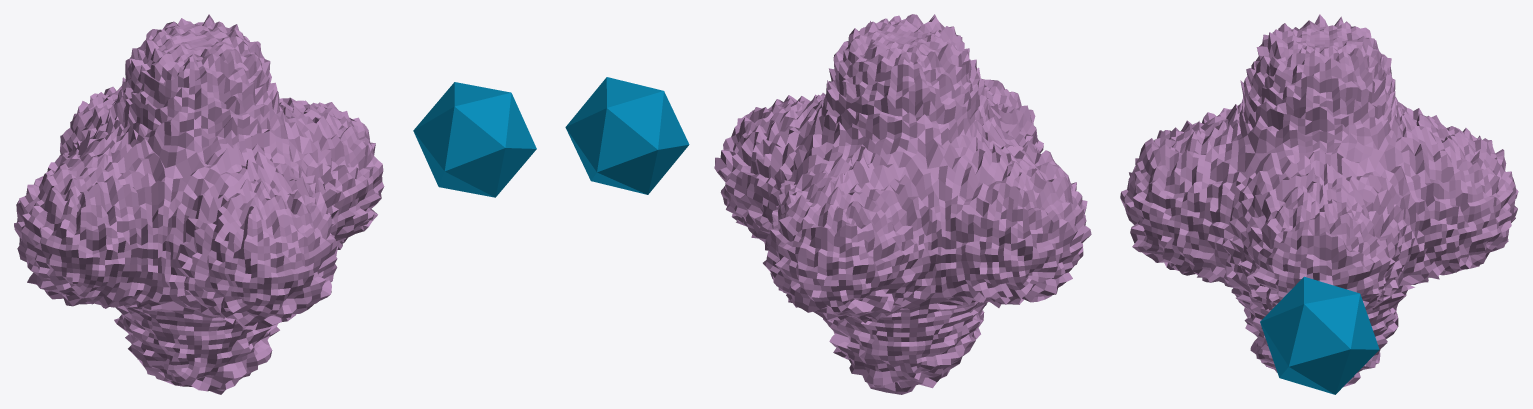
The model's file is blob.fbx.
The picture shows the model from 3 angles, left to right: view 1: azimuth 30°, elevation 25°; view 2: azimuth 150°, elevation 25°; view 3: azimuth 270°, elevation 25°; orthographic projection.
Visible parts, largest first — view 1: Blob, Icosa; view 2: Blob, Icosa; view 3: Blob, Icosa.
Part boxes in pixels (bbox=[...]): Blob: bbox=[14, 14, 384, 394]; Icosa: bbox=[413, 82, 536, 197]; Blob: bbox=[714, 14, 1091, 394]; Icosa: bbox=[565, 77, 689, 194]; Blob: bbox=[1120, 14, 1518, 387]; Icosa: bbox=[1260, 276, 1379, 394].
Size of the model in its own units: 915 by 614 by 645.
